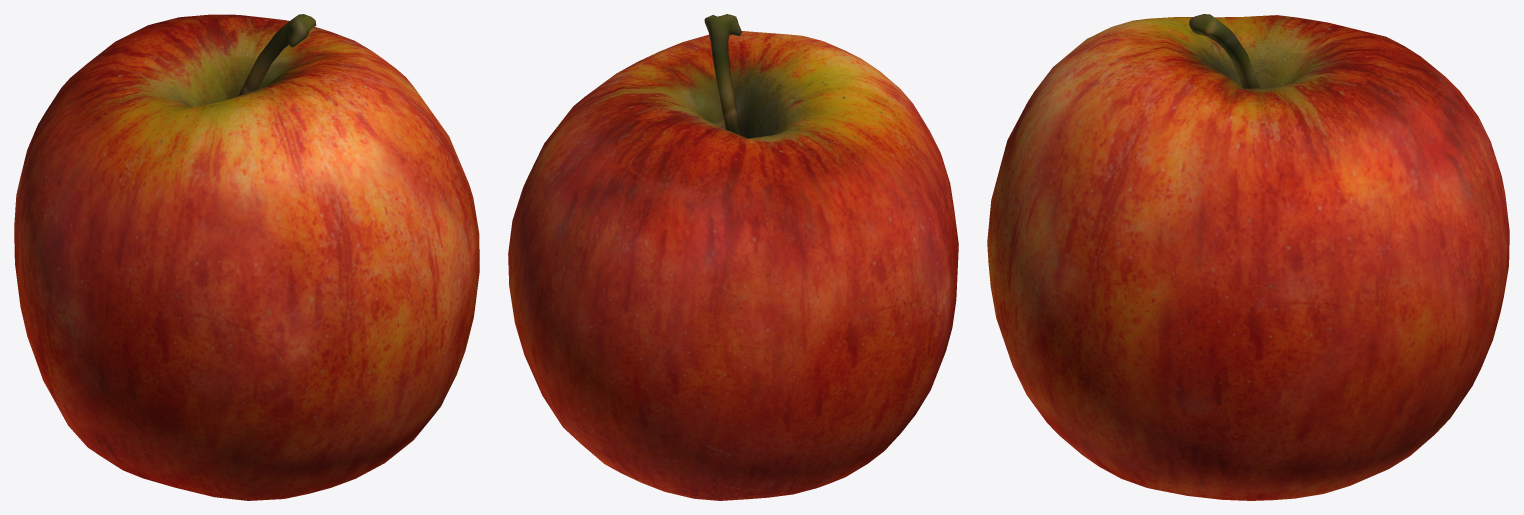
File: apple.glb
3 views of the same model, side by side, from view 1: azimuth 30°, elevation 25°; view 2: azimuth 150°, elevation 25°; view 3: azimuth 270°, elevation 25° (orthographic). The views are drawn at different scales.
Visible parts, largest first — view 1: apple_low_obj; view 2: apple_low_obj; view 3: apple_low_obj.
Boxes of the visible parts, box(x1,y1,x2,y2) form: apple_low_obj: box(14, 14, 479, 500); apple_low_obj: box(508, 14, 958, 500); apple_low_obj: box(987, 14, 1509, 500).
Size of the model in its own units: 76.34 by 79.5 by 82.14.
Materials: 1 (1 with a texture image).
